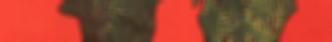Tomato Septoria leaf spot: (57, 0, 181, 42), (190, 0, 303, 42)
